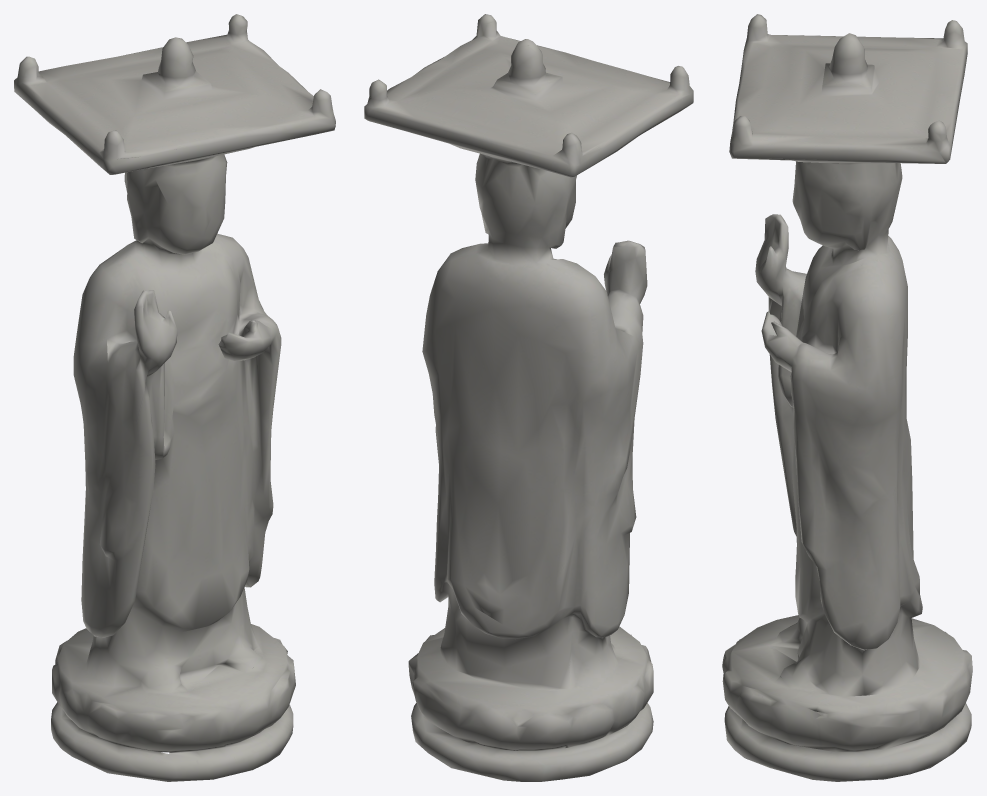
The model's file is bongeunsa.glb.
The picture shows the model from 3 angles, left to right: view 1: azimuth 30°, elevation 25°; view 2: azimuth 150°, elevation 25°; view 3: azimuth 270°, elevation 25°; orthographic projection.
Visible parts, largest first — view 1: Mesh0.001; view 2: Mesh0.001; view 3: Mesh0.001.
Boxes of the visible parts, left/top/right/bottom form: Mesh0.001: left=14, top=14, right=335, bottom=781; Mesh0.001: left=364, top=14, right=693, bottom=781; Mesh0.001: left=722, top=14, right=972, bottom=781.
Bounding box in the file's own units: 2.49 × 7.05 × 2.29.
1 material, 1 textured.
